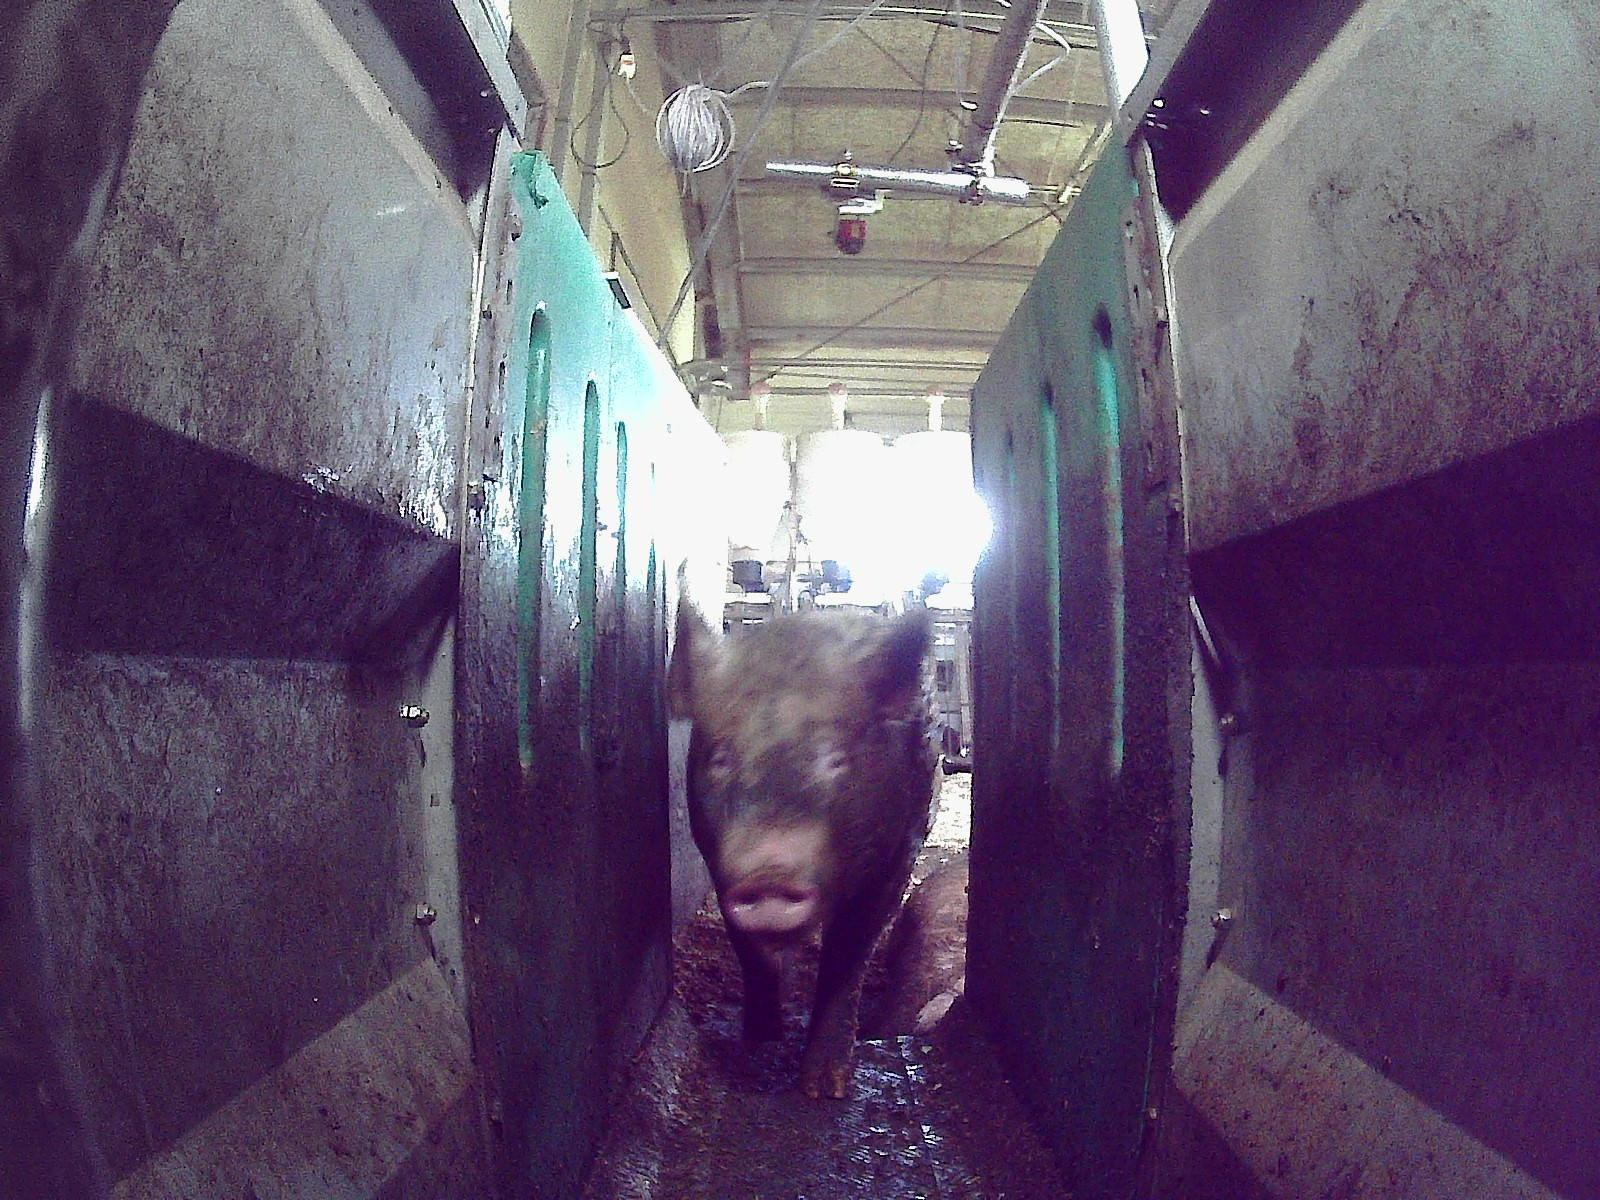Face: (690, 670, 884, 932)
